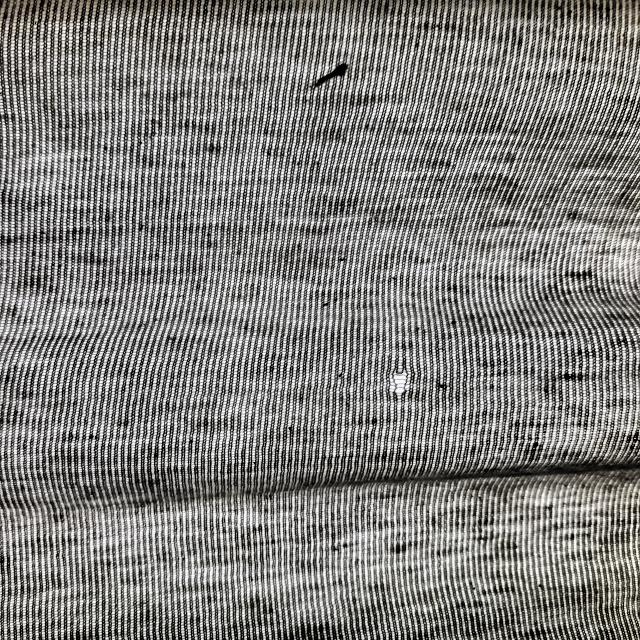Hole: (358, 219, 414, 261)
